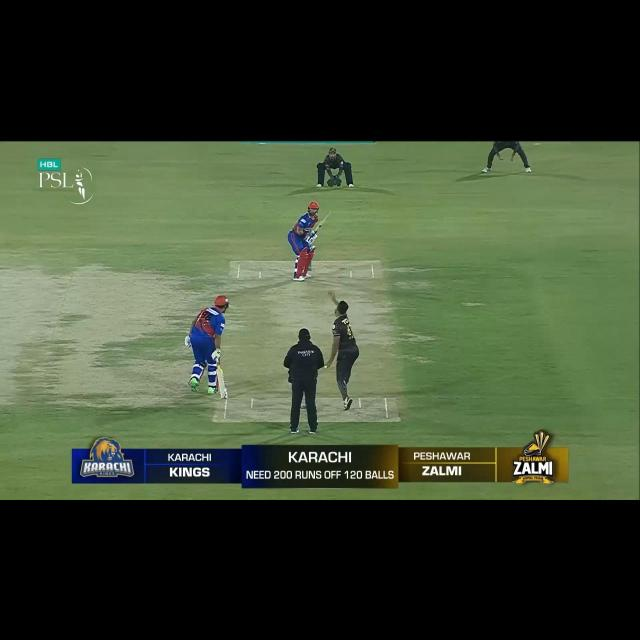bat: (214, 368, 228, 398), (315, 211, 331, 233)
toe: (220, 390, 227, 398), (326, 211, 331, 220)
